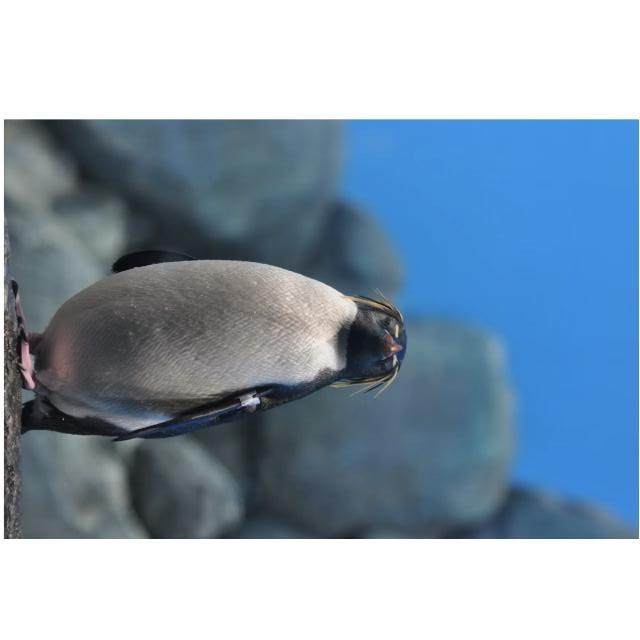penguin: (13, 248, 407, 441)
